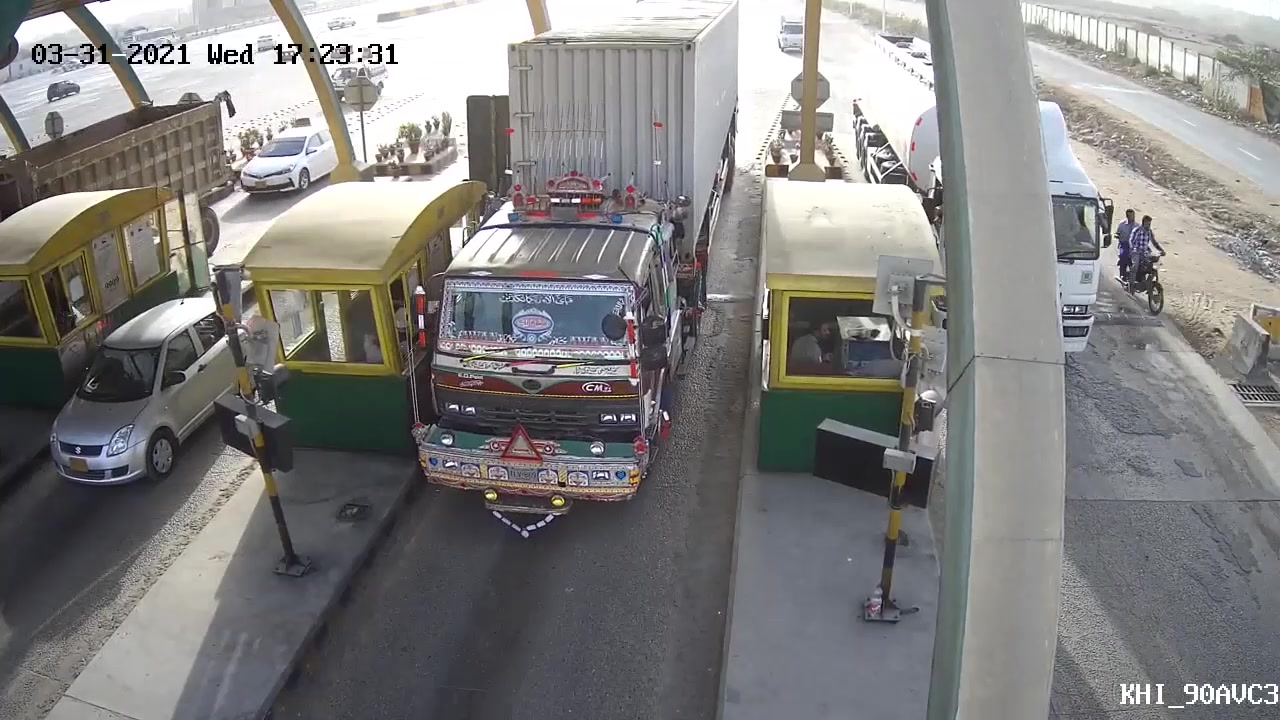F6: (425, 2, 744, 529)
